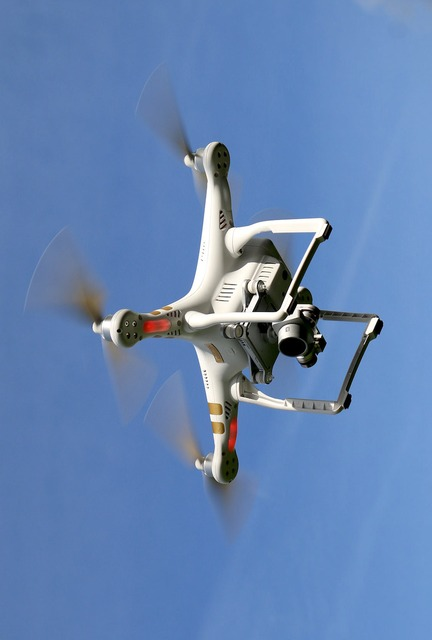drone: (75, 141, 381, 500)
